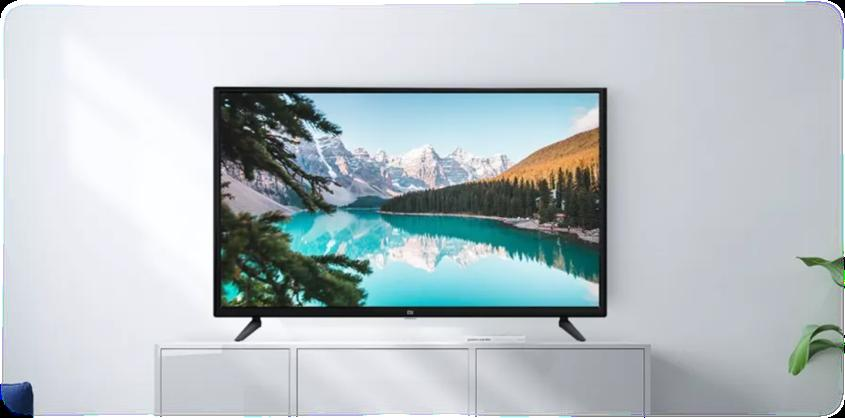TV: (211, 81, 611, 344)
console: (153, 341, 651, 418)
